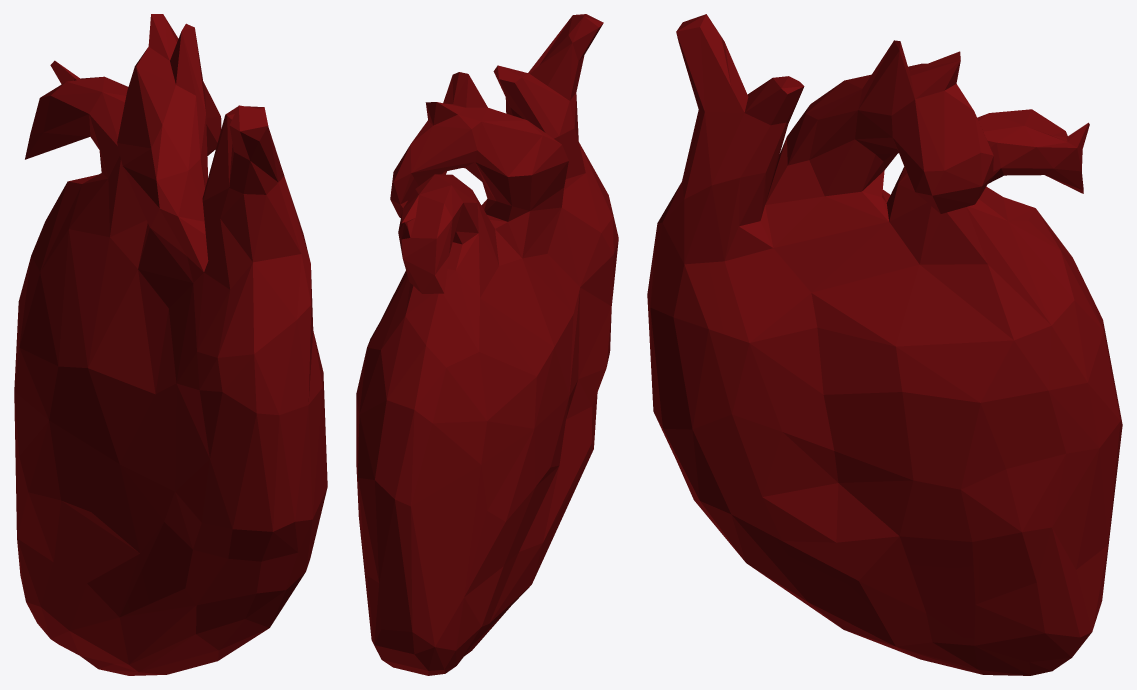
3 renders of one model, left to right at view 1: azimuth 30°, elevation 25°; view 2: azimuth 150°, elevation 25°; view 3: azimuth 270°, elevation 25°, orthographic. The views are drawn at different scales.
Parts seen in each view (by area): view 1: Heart_Cube.001; view 2: Heart_Cube.001; view 3: Heart_Cube.001.
Part boxes in pixels (bbox=[...]): Heart_Cube.001: bbox=[14, 14, 327, 675]; Heart_Cube.001: bbox=[356, 14, 618, 675]; Heart_Cube.001: bbox=[647, 14, 1122, 675].
Size of the model in its own units: 0.9239 by 3.33 by 2.23.
